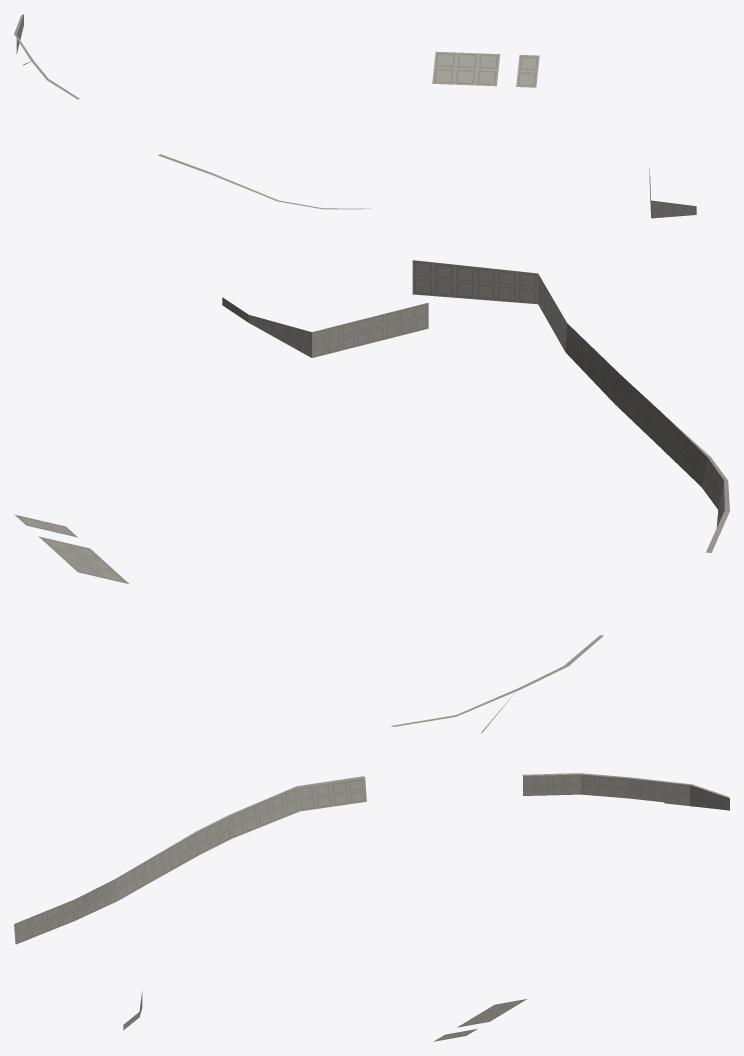
The model's file is kd_stage_13612f_4_5.glb.
3 views of the same model, one above another, from view 1: azimuth 30°, elevation 25°; view 2: azimuth 150°, elevation 25°; view 3: azimuth 270°, elevation 25° (orthographic). The views are drawn at different scales.
Parts seen in each view (by area): view 1: kd_stage_13612f_4_5; view 2: kd_stage_13612f_4_5; view 3: kd_stage_13612f_4_5.
Boxes of the visible parts, x1=… form: kd_stage_13612f_4_5: x1=14, y1=14, x2=696, y2=218; kd_stage_13612f_4_5: x1=14, y1=260, x2=729, y2=733; kd_stage_13612f_4_5: x1=14, y1=773, x2=729, y2=1041.
Bounding box in the file's own units: 93.88 × 11.2 × 123.
Materials: 1 (1 with a texture image).
